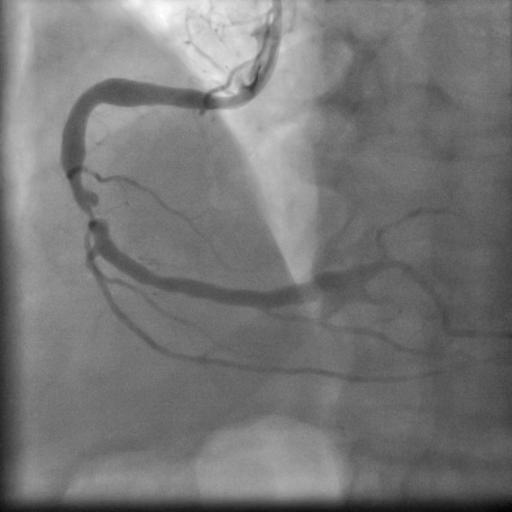Stenosis: (65, 182, 113, 230)
